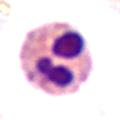eosi: (16, 20, 95, 97)
